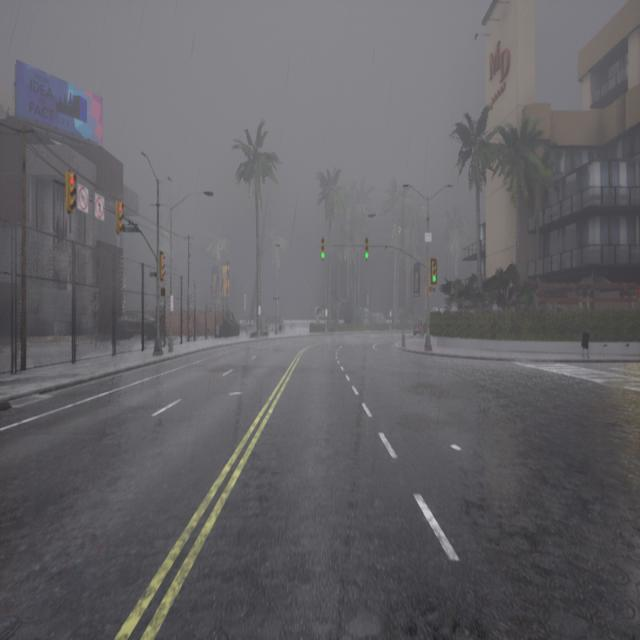6: (70, 176, 75, 185), (161, 256, 165, 263), (119, 204, 122, 212)
9: (66, 171, 76, 211), (116, 200, 124, 234), (160, 251, 166, 281), (431, 258, 437, 284), (364, 237, 369, 260), (321, 236, 325, 261)
bien_hieu_lenh: (321, 250, 325, 260), (432, 274, 437, 282), (364, 251, 368, 259)
